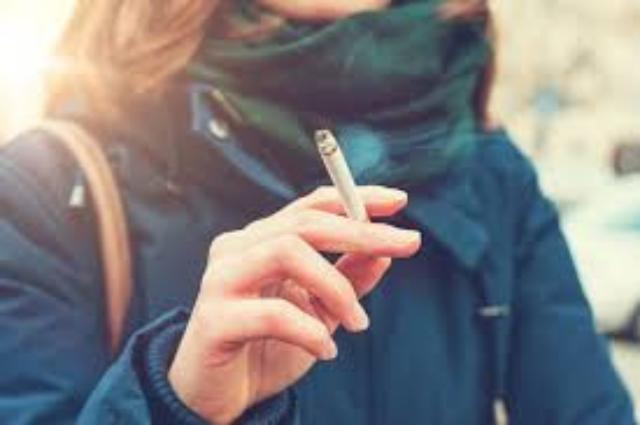Cigarette: (316, 130, 378, 258)
